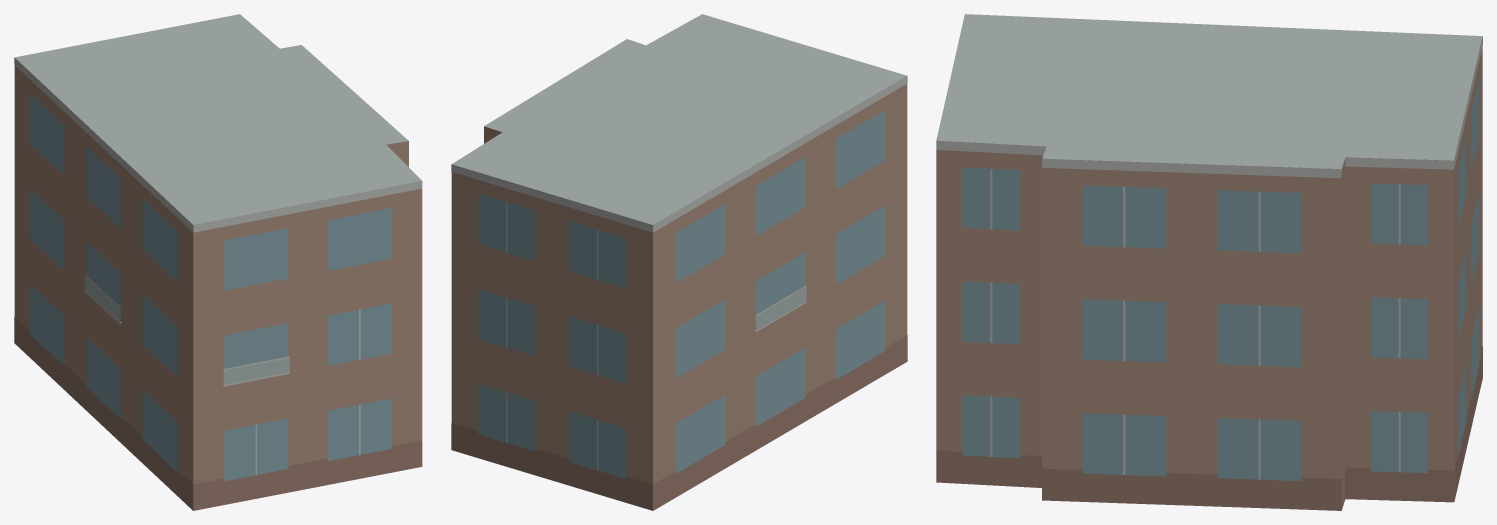
File: survey-upis-33012318.glb
3 renders of one model, left to right at view 1: azimuth 30°, elevation 25°; view 2: azimuth 150°, elevation 25°; view 3: azimuth 270°, elevation 25°, orthographic. The views are drawn at different scales.
Visible parts, largest first — view 1: survey-upis-33012318.tmp; view 2: survey-upis-33012318.tmp; view 3: survey-upis-33012318.tmp.
Boxes of the visible parts, x1,y1,x2,y2 form: survey-upis-33012318.tmp: [14, 14, 422, 510]; survey-upis-33012318.tmp: [451, 14, 907, 510]; survey-upis-33012318.tmp: [936, 14, 1482, 510].
Size of the model in its own units: 8.92 by 9.15 by 13.27.
